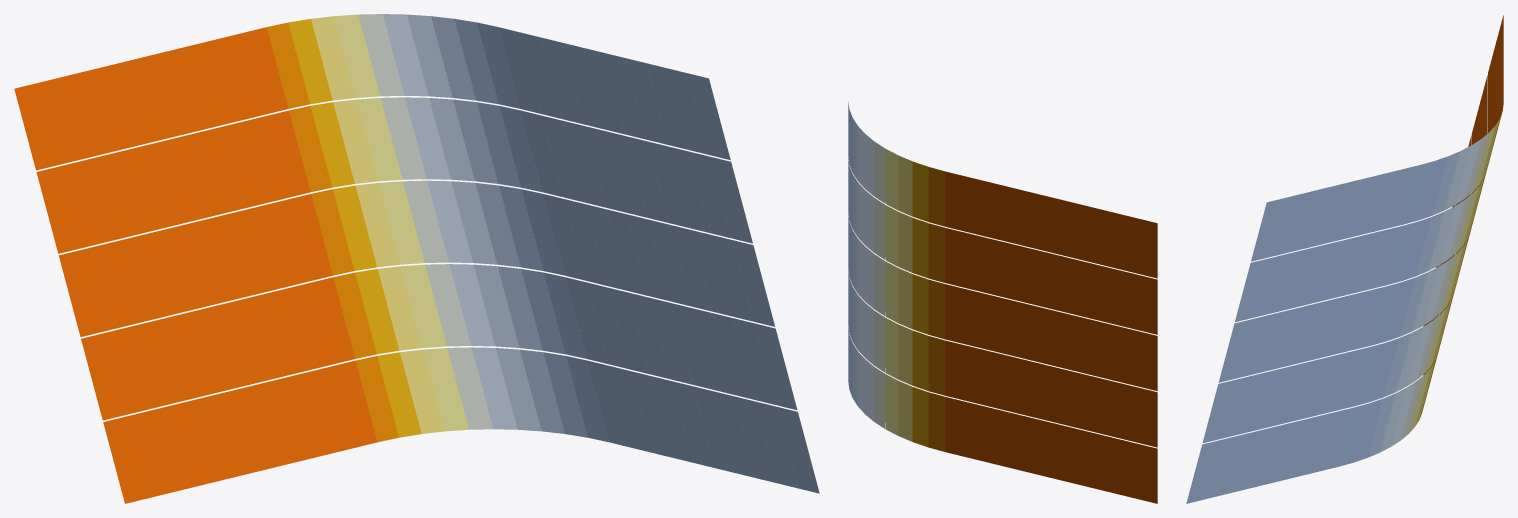
Rendered from PanelUnitsColored.glb.
The picture shows the model from 3 angles, left to right: view 1: azimuth 30°, elevation 25°; view 2: azimuth 150°, elevation 25°; view 3: azimuth 270°, elevation 25°; orthographic projection. The views are drawn at different scales.
Parts seen in each view (by area): view 1: GH_Obj (×160); view 2: GH_Obj (×95); view 3: GH_Obj (×80).
Boxes of the visible parts, bbox=[...] form: GH_Obj (×160): bbox=[14, 14, 819, 503]; GH_Obj (×95): bbox=[857, 126, 1157, 503]; GH_Obj (×80): bbox=[1186, 133, 1488, 503].
Bounding box in the file's own units: 38.44 × 24.3 × 24.79.
